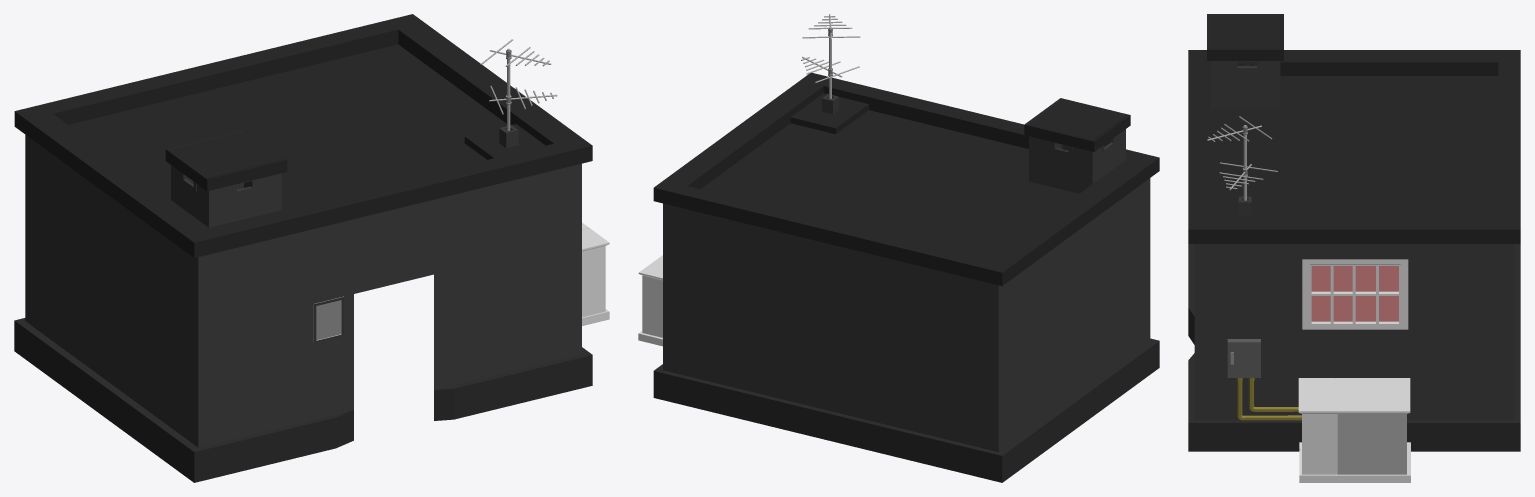
The model's file is RoofRoom.fbx.
3 views of the same model, side by side, from view 1: azimuth 30°, elevation 25°; view 2: azimuth 150°, elevation 25°; view 3: azimuth 270°, elevation 25° (orthographic). The views are drawn at different scales.
Visible parts, largest first — view 1: RoofRoom, Ventilation, Generator, BaseAntenna, Antenna; view 2: RoofRoom, Ventilation, BaseAntenna, Generator, Antenna; view 3: RoofRoom, Generator, Window, Ventilation, Panel, BaseAntenna, Pipes3, Antenna.
Boxes of the visible parts, x1,y1,x2,y2 form: RoofRoom: (14,14,592,482); Ventilation: (165,129,287,227); Generator: (582,222,609,325); BaseAntenna: (464,124,545,159); Antenna: (480,39,557,130); RoofRoom: (653,73,1159,482); Ventilation: (1024,98,1130,193); BaseAntenna: (790,93,868,134); Generator: (638,255,662,346); Antenna: (801,14,860,98); RoofRoom: (1188,50,1520,451); Generator: (1298,378,1410,482); Window: (1302,259,1408,329); Ventilation: (1207,14,1283,108); Panel: (1227,339,1260,377); BaseAntenna: (1210,196,1280,217); Pipes3: (1236,378,1301,420); Antenna: (1207,116,1277,200).
Bounding box in the file's own units: 1661 × 1090 × 1089.
